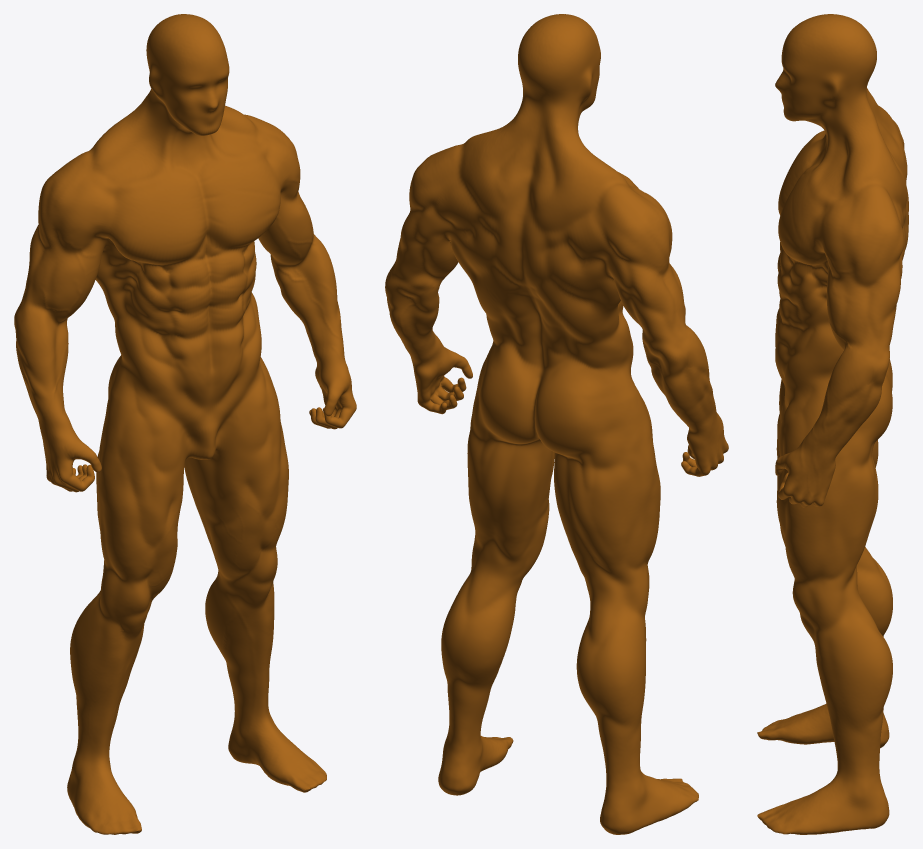
The model's file is human.glb.
3 renders of one model, left to right at view 1: azimuth 30°, elevation 25°; view 2: azimuth 150°, elevation 25°; view 3: azimuth 270°, elevation 25°, orthographic.
Visible parts, largest first — view 1: Object_4, Object_3, Object_5, Object_6, Object_2, Object_7; view 2: Object_4, Object_3, Object_5, Object_2, Object_6, Object_7; view 3: Object_6, Object_2, Object_5, Object_7, Object_3, Object_4.
Boxes of the visible parts, bbox=[...] form: Object_4: bbox=[14, 92, 196, 791]; Object_3: bbox=[14, 15, 213, 834]; Object_5: bbox=[67, 15, 351, 834]; Object_6: bbox=[188, 106, 356, 789]; Object_2: bbox=[151, 14, 356, 792]; Object_7: bbox=[182, 14, 356, 787]; Object_4: bbox=[548, 88, 728, 817]; Object_3: bbox=[523, 27, 715, 834]; Object_5: bbox=[385, 15, 698, 834]; Object_2: bbox=[385, 14, 599, 795]; Object_6: bbox=[387, 48, 554, 794]; Object_7: bbox=[386, 14, 557, 790]; Object_6: bbox=[759, 49, 907, 834]; Object_2: bbox=[757, 17, 908, 832]; Object_5: bbox=[758, 14, 908, 834]; Object_7: bbox=[759, 19, 904, 832]; Object_3: bbox=[757, 14, 908, 748]; Object_4: bbox=[777, 93, 905, 744].
Bounding box in the file's own units: 76.85 × 183 × 32.79.
